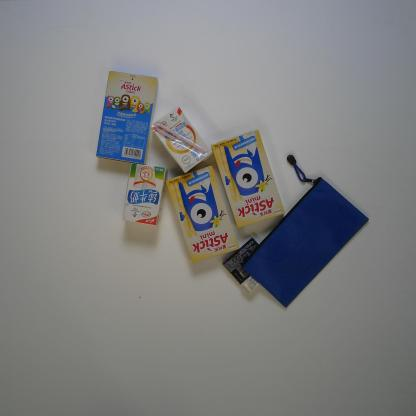Dessert: (211, 129, 286, 228), (165, 166, 240, 264), (95, 70, 160, 165)
Gum: (222, 237, 259, 284)
Milk: (150, 107, 214, 174), (122, 162, 167, 226)
Stationery: (242, 154, 369, 310)
